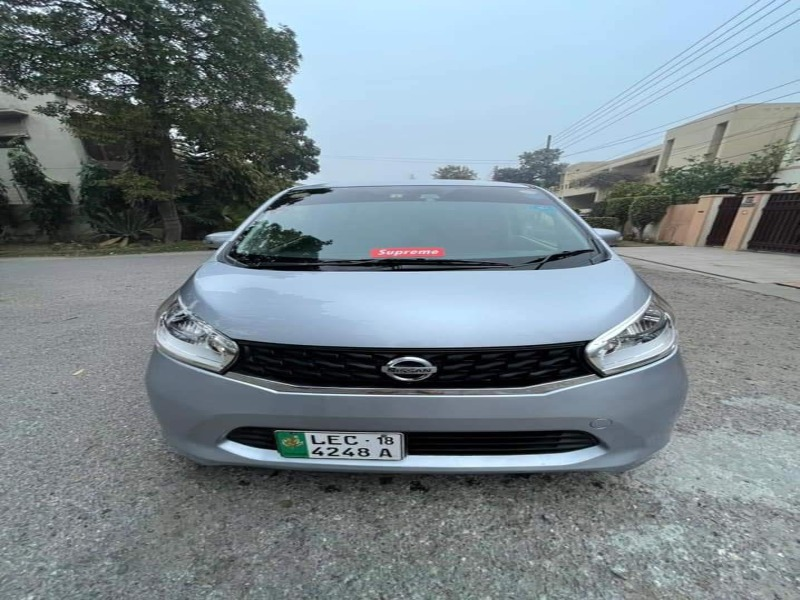License Plate: (273, 425, 407, 467)
